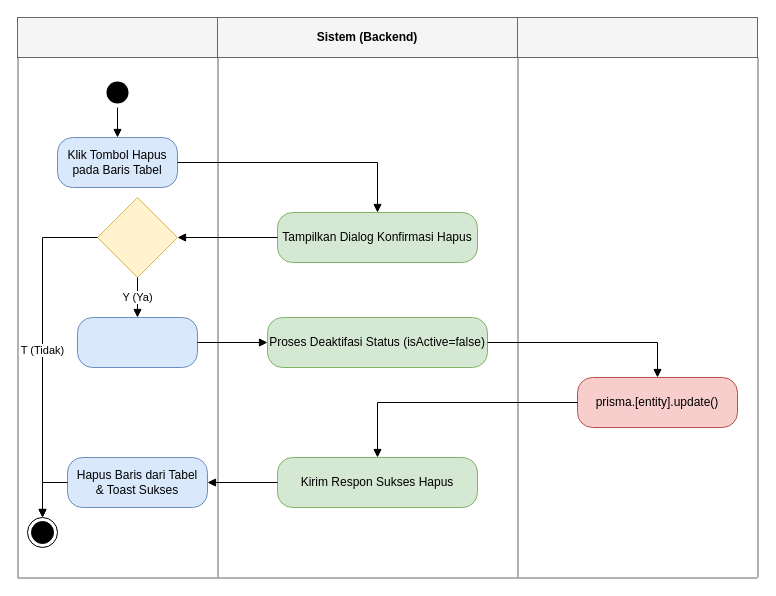
Some shapes in this 776 by 596 pixel diagram are drawn without their labels. Each missing label, with the centre of its shape:
"Admin" goes at (117,37).
"Database" goes at (637,37).
"Kirim DELETE/ PATCH Request" goes at (137,342).
"Konfirmasi?" goes at (137,237).
